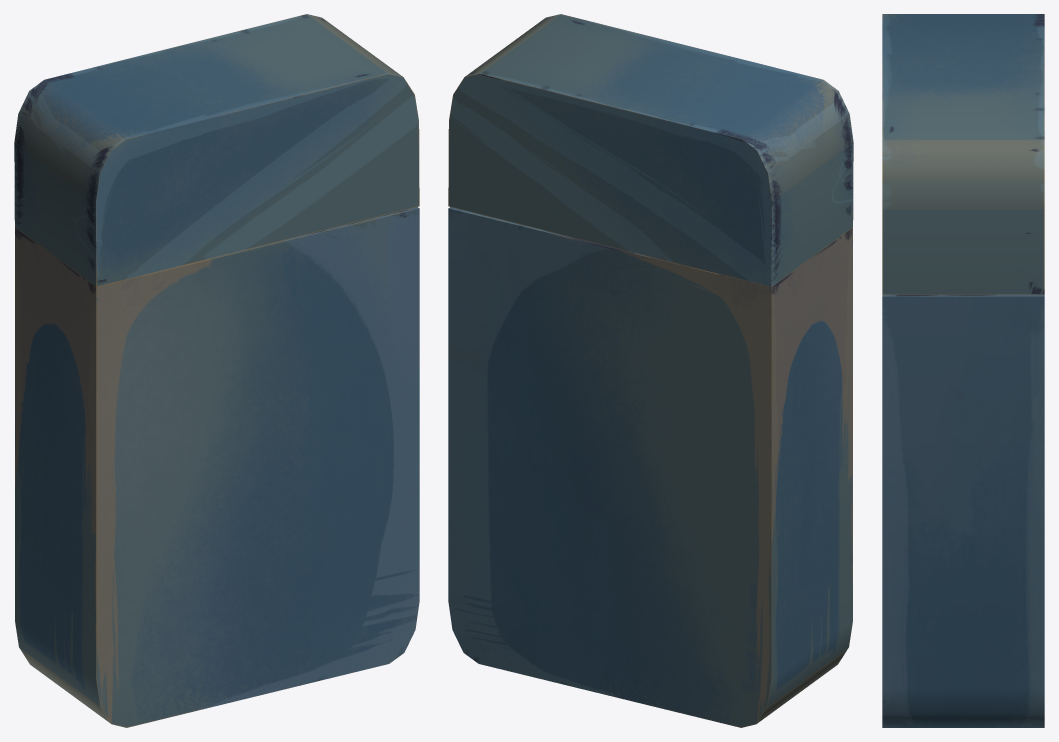
Rendered from zapalara.fbx.
The picture shows the model from 3 angles, left to right: view 1: azimuth 30°, elevation 25°; view 2: azimuth 150°, elevation 25°; view 3: azimuth 270°, elevation 25°; orthographic projection.
Visible parts, largest first — view 1: glowna_czesc, zamkniecie; view 2: glowna_czesc, zamkniecie; view 3: glowna_czesc, zamkniecie.
Part boxes in pixels (<box>): glowna_czesc: <box>15,207,419,727</box>; zamkniecie: <box>14,14,419,287</box>; glowna_czesc: <box>448,207,852,727</box>; zamkniecie: <box>448,14,853,287</box>; glowna_czesc: <box>882,294,1044,727</box>; zamkniecie: <box>882,14,1044,294</box>.
Bounding box in the file's own units: 3.84 × 6.69 × 1.67.
